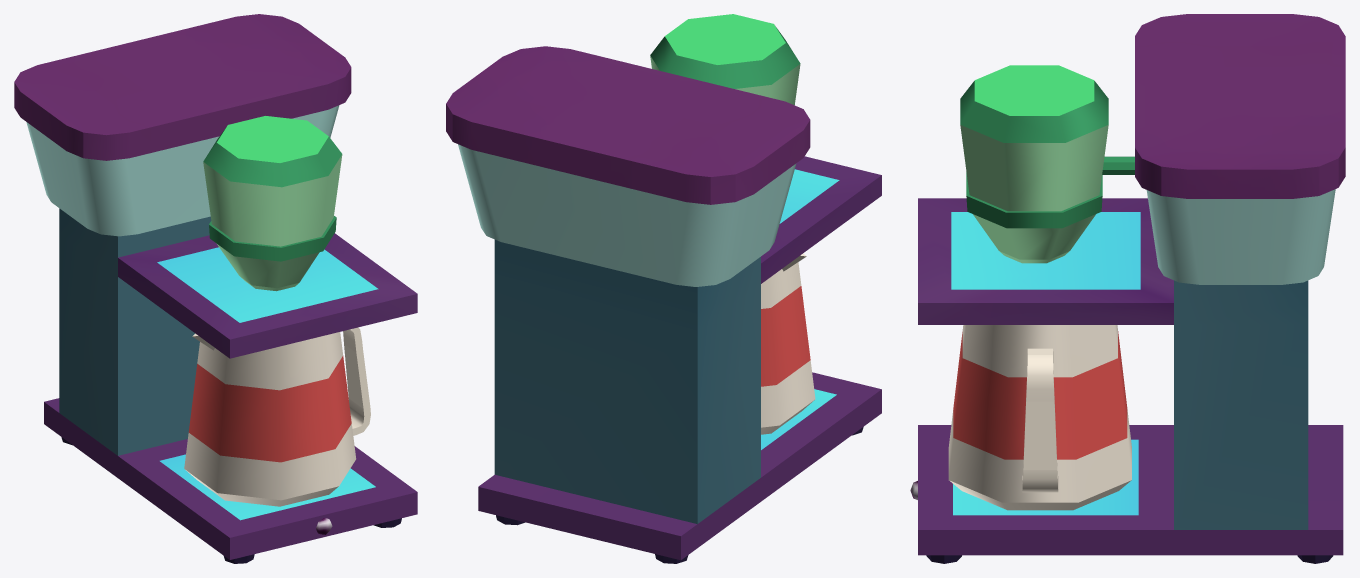
Rendered from Drink_Machine_lv5.fbx.
The picture shows the model from 3 angles, left to right: view 1: azimuth 30°, elevation 25°; view 2: azimuth 150°, elevation 25°; view 3: azimuth 270°, elevation 25°; orthographic projection. The views are drawn at different scales.
Visible parts, largest first — view 1: Drink_Machine_lv5; view 2: Drink_Machine_lv5; view 3: Drink_Machine_lv5.
Part boxes in pixels (x1,y1,x2,y2): Drink_Machine_lv5: [14, 14, 417, 563]; Drink_Machine_lv5: [446, 14, 881, 563]; Drink_Machine_lv5: [910, 14, 1345, 563].
Size of the model in its own units: 109 by 139 by 129.
